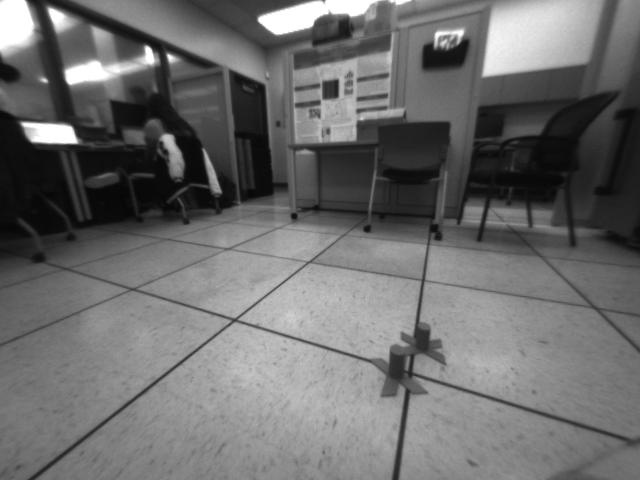X: (367, 344, 430, 399), (398, 322, 448, 367)
